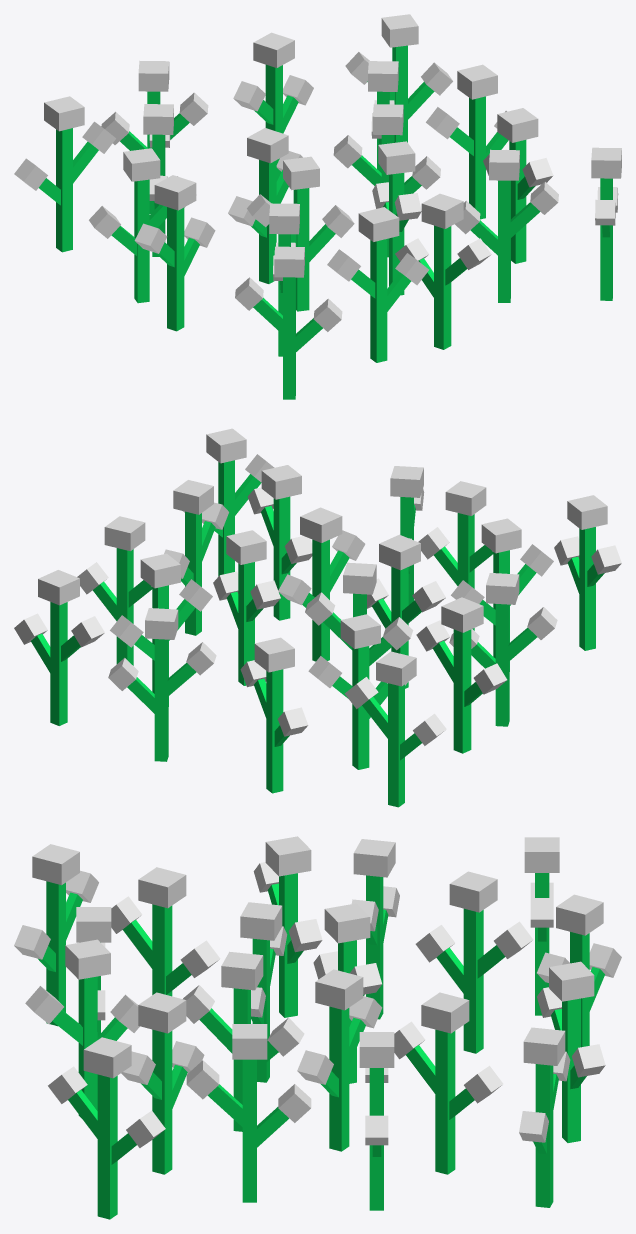
File: BigBuckwheatFlowerPatch.fbx
The picture shows the model from 3 angles, top to bottom: view 1: azimuth 30°, elevation 25°; view 2: azimuth 150°, elevation 25°; view 3: azimuth 270°, elevation 25°; orthographic projection. The views are drawn at different scales.
Parts seen in each view (by area): view 1: Cube.001; view 2: Cube.001; view 3: Cube.001.
Boxes of the visible parts, x1,y1,x2,y2 form: Cube.001: (14,14,621,399); Cube.001: (14,428,621,807); Cube.001: (14,836,621,1219).
Bounding box in the file's own units: 202 × 64 × 210.
